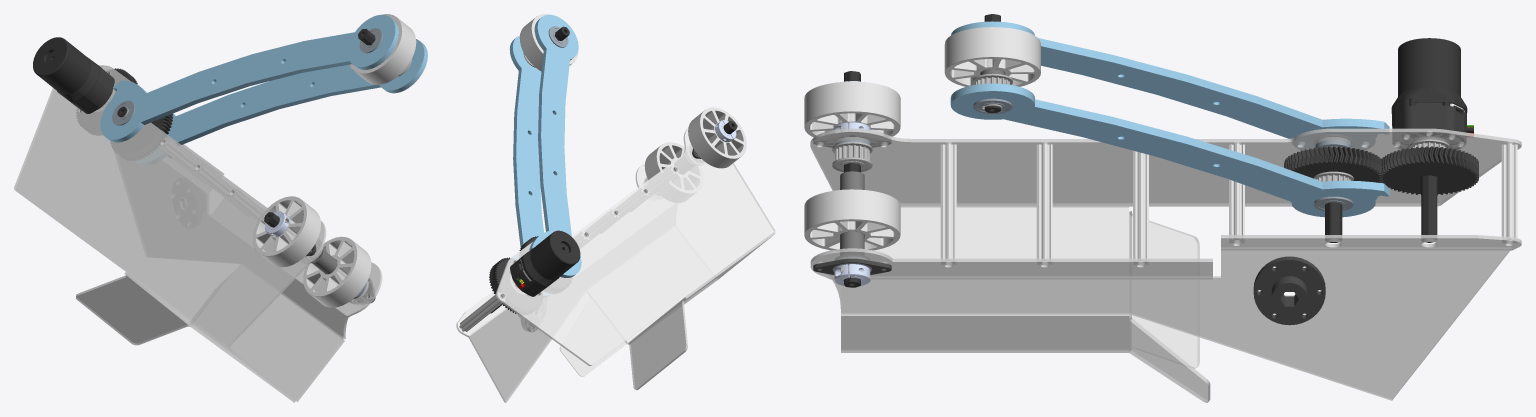
3 renders of one model, left to right at view 1: azimuth 30°, elevation 25°; view 2: azimuth 150°, elevation 25°; view 3: azimuth 270°, elevation 25°, orthographic. The views are drawn at different scales.
Visible parts, largest first — view 1: Flat Side, Part 1 (×2), am-3946 3IN 500Hex Molded Compliant Wheel VER 2 (×3), Slant Side Bottom, Center Flap, NEO Vortex Brushless Motor, Spur gear (60 teeth) (×2), Slant Side 2nd to Top, Center Bottom, 1/2 Churro X 3.886" Long (×2), Slant Side Top 1, SPARK Flex (+1 smaller); view 2: Flat Side, Part 1 (×2), am-3946 3IN 500Hex Molded Compliant Wheel VER 2 (×3), Slant Side 2nd to Top, Center Flap, NEO Vortex Brushless Motor, Spur gear (60 teeth) (×2), 1/2 Churro X 3.886" Long (×3), Center Bottom, SPARK Flex, 1/2 Churro X 3.159" Long, Slant Side Top 2 (+1 smaller); view 3: Slant Side 2nd to Top, Flat Side, Part 1 (×2), am-3946 3IN 500Hex Molded Compliant Wheel VER 2 (×3), Slant Side Bottom, Center Bottom, Slant Side Top 1, Spur gear (60 teeth) (×2), 1/2 Churro X 3.886" Long (×3), Slant Side Top 2, NEO Vortex Brushless Motor, Thrifty Hub - Half Inch Hex (TTB-0005) (+7 smaller).
Boxes of the visible parts, x1,y1,x2,y2 form: Flat Side: (14, 65, 326, 347); Part 1 (×2): (100, 14, 427, 165); am-3946 3IN 500Hex Molded Compliant Wheel VER 2 (×3): (253, 14, 416, 307); Slant Side Bottom: (229, 294, 344, 401); Center Flap: (76, 275, 190, 345); NEO Vortex Brushless Motor: (33, 37, 102, 104); Spur gear (60 teeth) (×2): (77, 68, 172, 160); Slant Side 2nd to Top: (281, 278, 348, 339); Center Bottom: (124, 272, 295, 402); 1/2 Churro X 3.886" Long (×2): (194, 163, 263, 220); Slant Side Top 1: (295, 262, 382, 317); SPARK Flex: (64, 67, 114, 113); Flat Side: (496, 128, 775, 365); Part 1 (×2): (509, 14, 581, 296); am-3946 3IN 500Hex Molded Compliant Wheel VER 2 (×3): (519, 14, 746, 202); Slant Side 2nd to Top: (468, 308, 551, 402); Center Flap: (628, 299, 687, 390); NEO Vortex Brushless Motor: (520, 230, 580, 288); Spur gear (60 teeth) (×2): (489, 236, 572, 314); 1/2 Churro X 3.886" Long (×3): (580, 166, 678, 247); Center Bottom: (628, 232, 775, 343); SPARK Flex: (510, 258, 550, 296); 1/2 Churro X 3.159" Long: (459, 292, 505, 331); Slant Side Top 2: (456, 291, 507, 337); Slant Side 2nd to Top: (831, 247, 1511, 400); Flat Side: (810, 128, 1521, 206); Part 1 (×2): (950, 21, 1389, 217); am-3946 3IN 500Hex Molded Compliant Wheel VER 2 (×3): (804, 27, 1040, 250); Slant Side Bottom: (841, 314, 1129, 352); Center Bottom: (874, 206, 1129, 258); Slant Side Top 1: (810, 248, 1212, 279); Spur gear (60 teeth) (×2): (1284, 146, 1478, 195); 1/2 Churro X 3.886" Long (×3): (940, 143, 1148, 265); Slant Side Top 2: (1221, 235, 1521, 250); NEO Vortex Brushless Motor: (1391, 38, 1467, 114); Thrifty Hub - Half Inch Hex (TTB-0005): (1253, 256, 1325, 325).
Size of the model in its own units: 0.3499 by 0.4111 by 0.5683.
